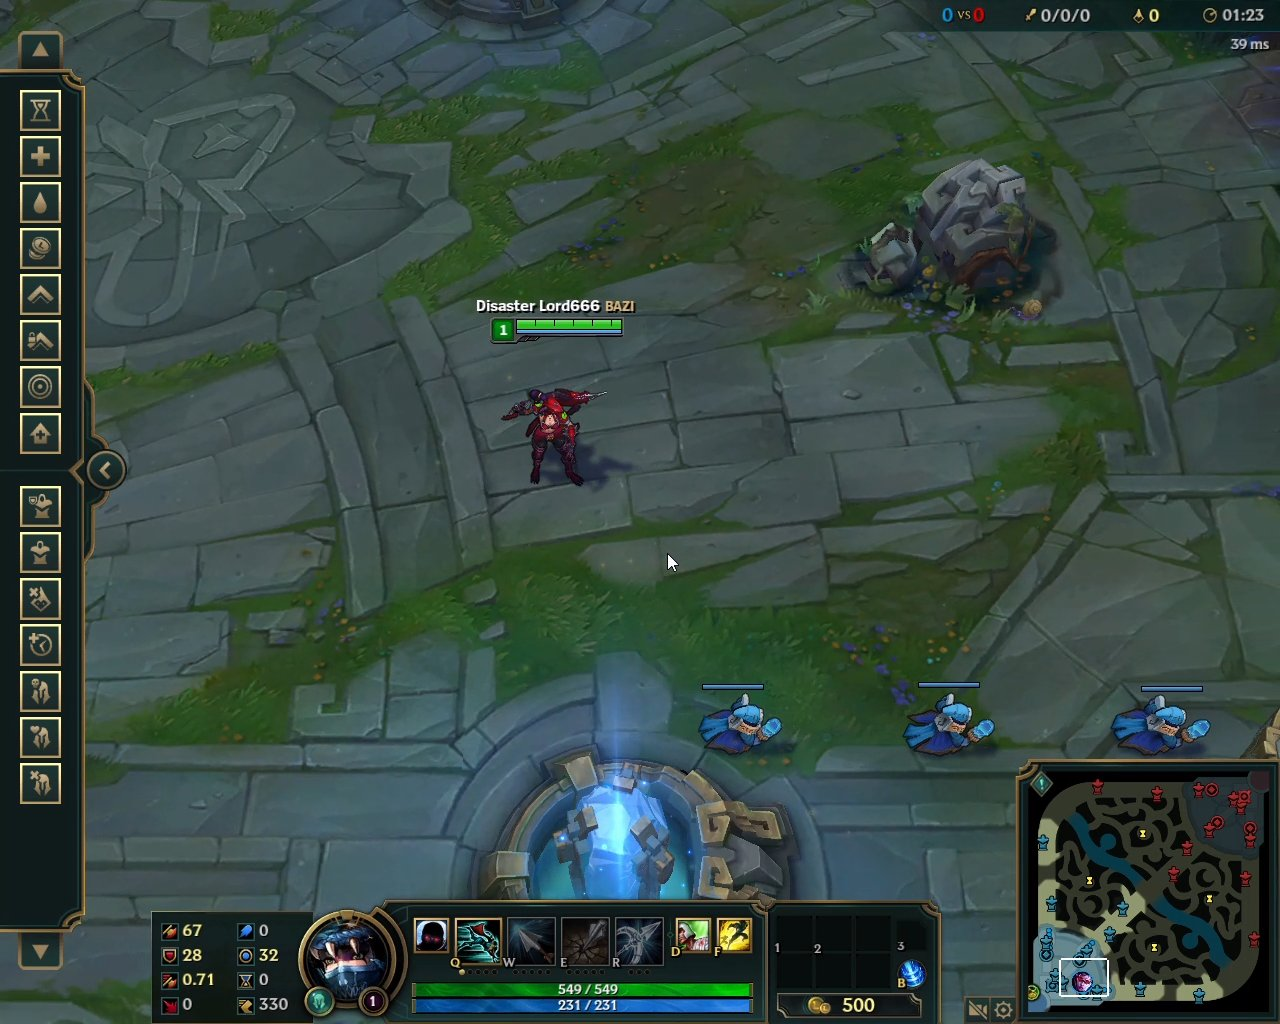Vayne: (495, 379, 612, 490)
